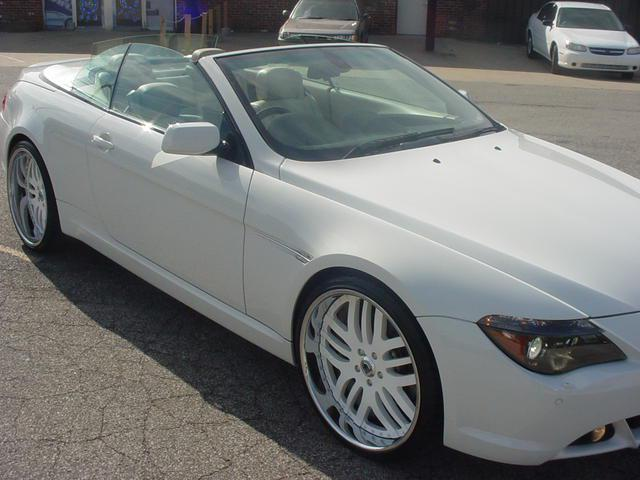Car: (2, 31, 640, 480), (520, 1, 640, 89), (262, 1, 384, 65)
